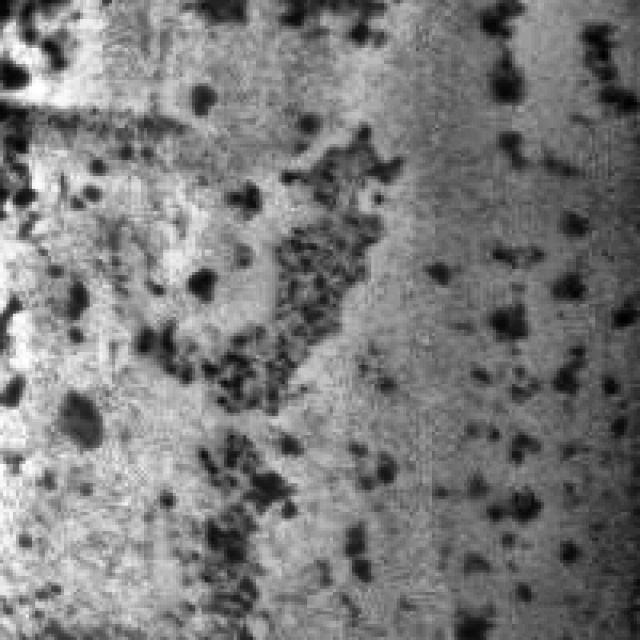Rolled_in_Scale: (388, 124, 630, 630), (138, 61, 404, 413), (132, 394, 390, 608), (0, 0, 109, 483)
